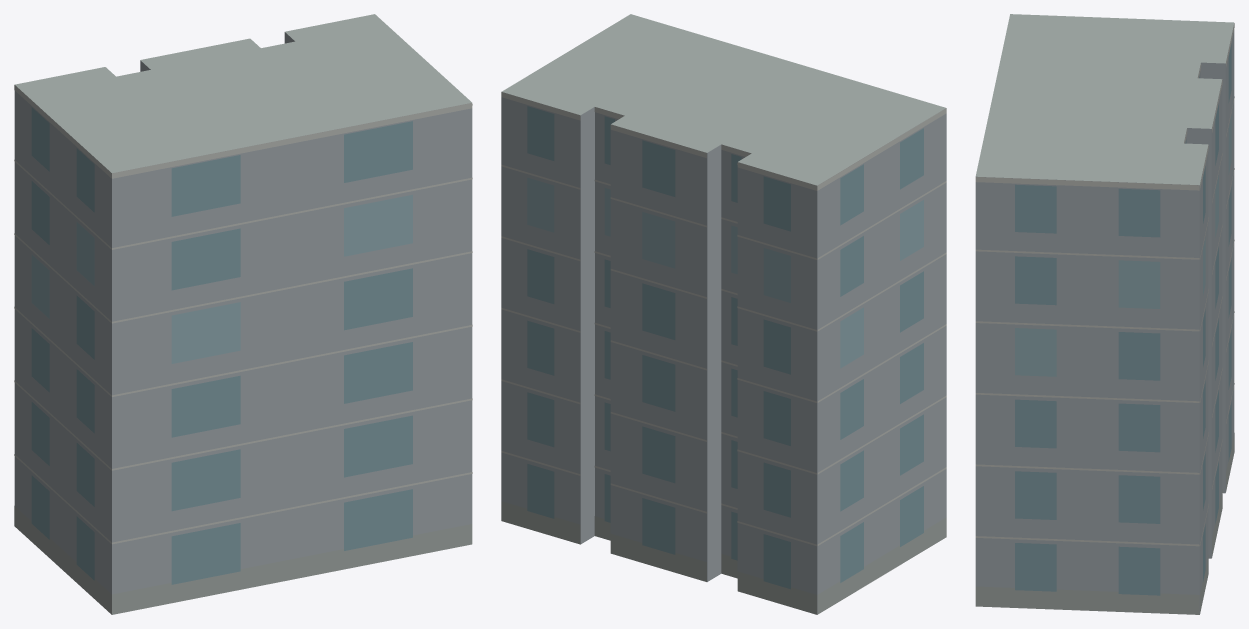
Rendered from survey-upis-32796260.glb.
The picture shows the model from 3 angles, left to right: view 1: azimuth 30°, elevation 25°; view 2: azimuth 150°, elevation 25°; view 3: azimuth 270°, elevation 25°; orthographic projection. The views are drawn at different scales.
Visible parts, largest first — view 1: survey-upis-32796260.tmp; view 2: survey-upis-32796260.tmp; view 3: survey-upis-32796260.tmp.
Boxes of the visible parts, box(x1,y1,x2,y2) form: survey-upis-32796260.tmp: box(14, 14, 472, 614); survey-upis-32796260.tmp: box(501, 14, 946, 614); survey-upis-32796260.tmp: box(975, 14, 1234, 614).
Size of the model in its own units: 16.6 by 19.4 by 10.62.
